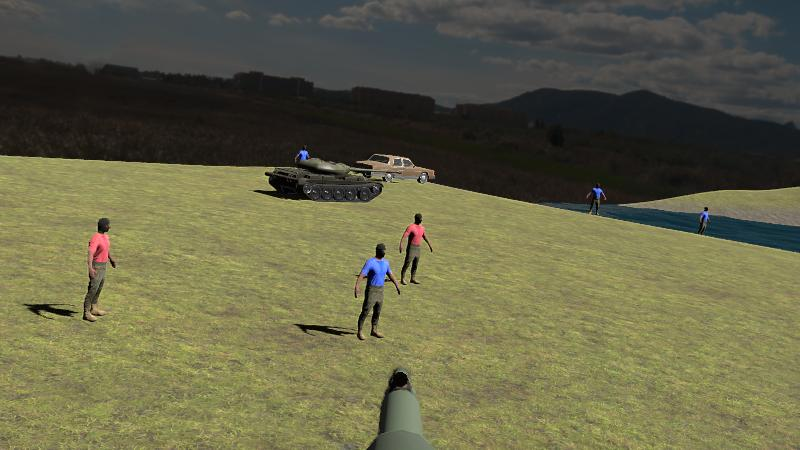Human: (353, 242, 400, 339), (83, 217, 115, 321), (400, 212, 433, 285)
Tank: (265, 155, 391, 203)
car: (352, 154, 436, 184)
